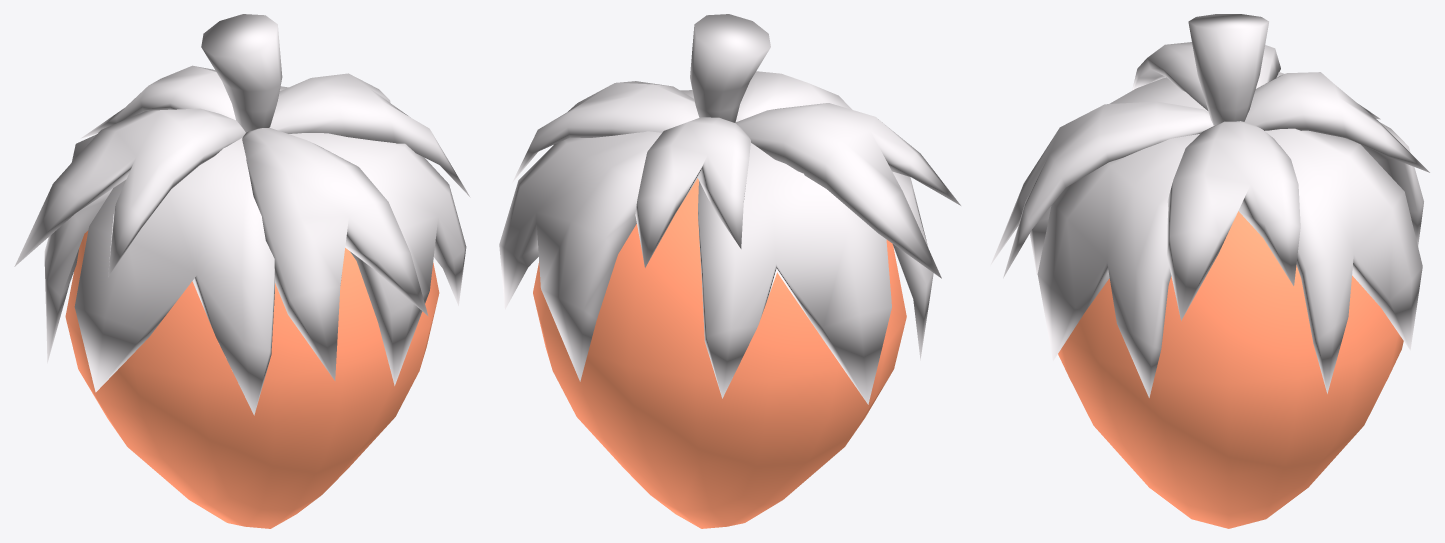
File: berry.fbx
The picture shows the model from 3 angles, left to right: view 1: azimuth 30°, elevation 25°; view 2: azimuth 150°, elevation 25°; view 3: azimuth 270°, elevation 25°; orthographic projection.
Visible parts, largest first — view 1: Berry; view 2: Berry; view 3: Berry.
Part boxes in pixels (x1,y1,x2,y2): Berry: (14,14,470,528); Berry: (499,14,960,528); Berry: (990,14,1429,528).
Bounding box in the file's own units: 377 × 425 × 336.
